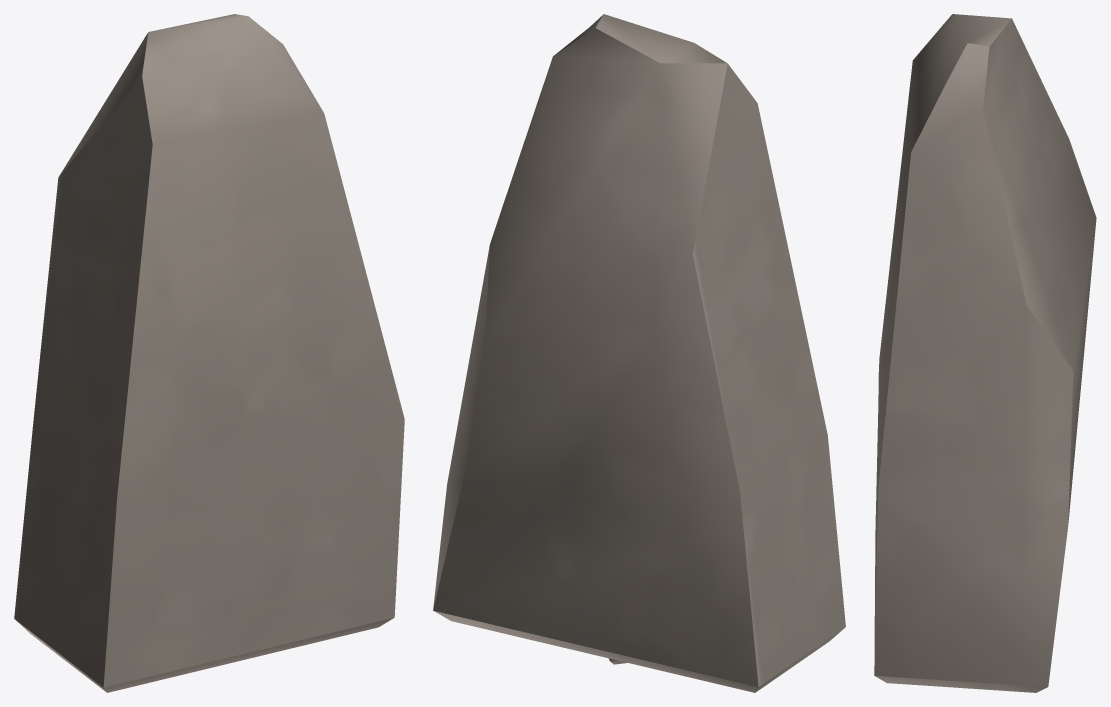
The model's file is Stone_Test.fbx.
3 views of the same model, side by side, from view 1: azimuth 30°, elevation 25°; view 2: azimuth 150°, elevation 25°; view 3: azimuth 270°, elevation 25° (orthographic). The views are drawn at different scales.
Parts seen in each view (by area): view 1: Stone_3_Low; view 2: Stone_3_Low; view 3: Stone_3_Low.
Part boxes in pixels (bbox=[...]): Stone_3_Low: bbox=[14, 14, 404, 692]; Stone_3_Low: bbox=[433, 14, 845, 692]; Stone_3_Low: bbox=[874, 14, 1096, 692].
Bounding box in the file's own units: 26.28 × 48.09 × 15.91.
